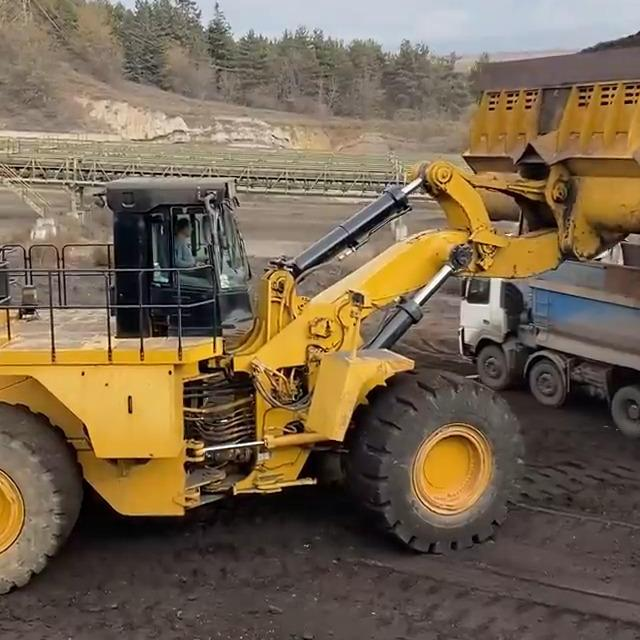NO-Hardhat: (177, 218, 191, 227)
NO-Mask: (185, 232, 192, 239)
NO-Safety Vest: (175, 237, 193, 263)
Person: (175, 217, 215, 283)
dump truck: (457, 227, 640, 461)
wheel loader: (0, 40, 640, 605)
